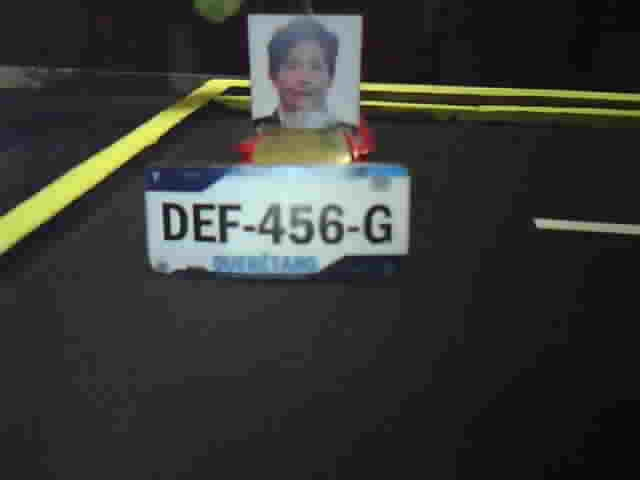PLACA: (142, 161, 414, 282)
ROSTRO: (252, 16, 357, 134)
